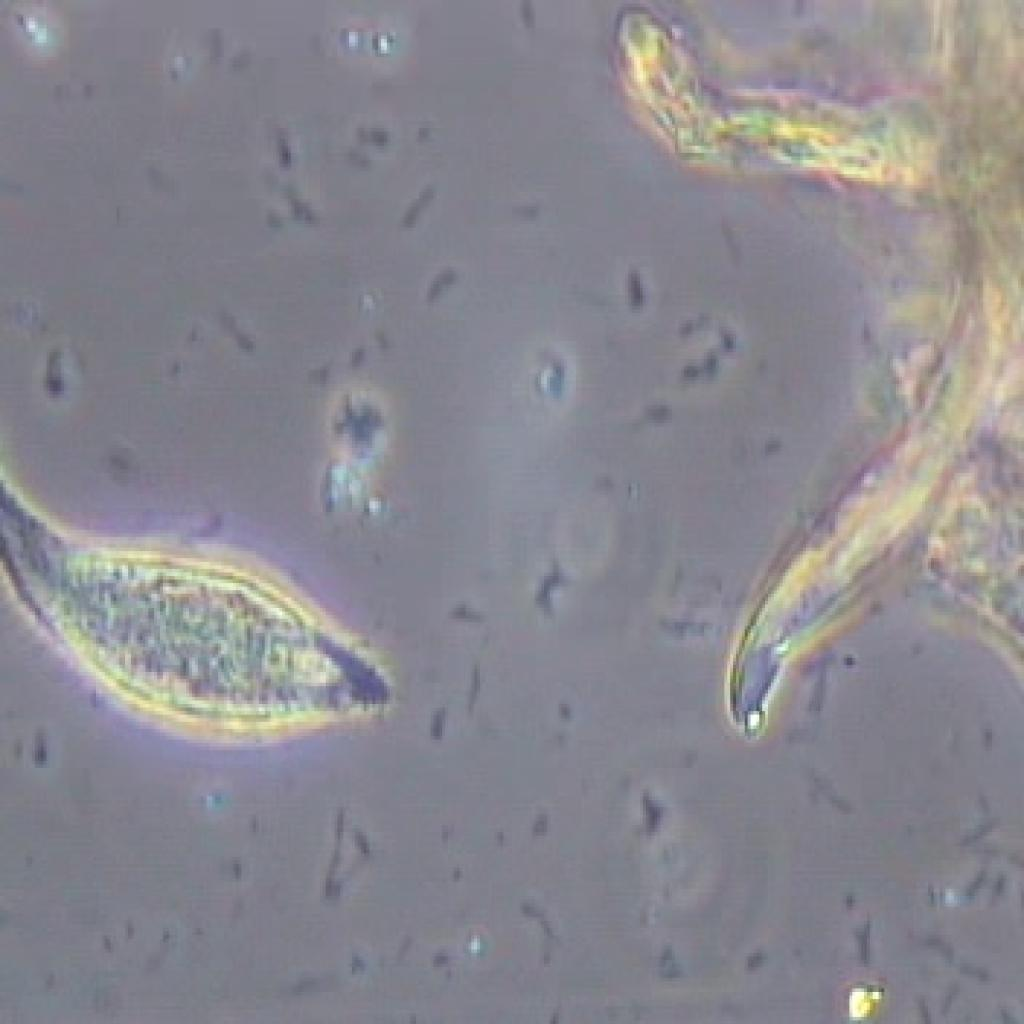Pristina: (0, 418, 425, 777)
